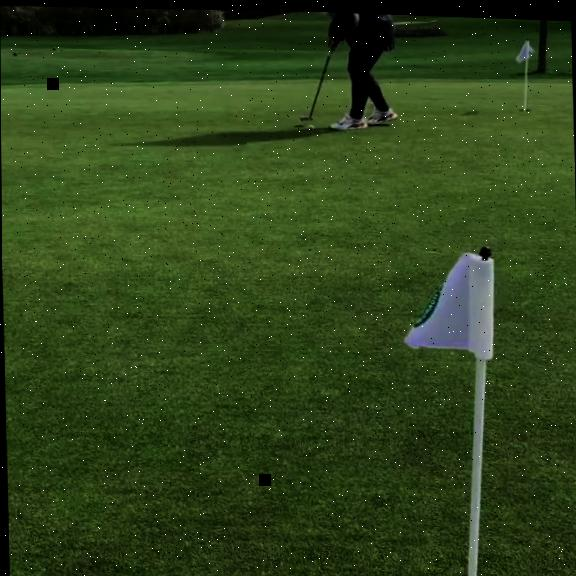ClubHead: (300, 113, 314, 120)
GolfBall: (307, 122, 314, 127)
